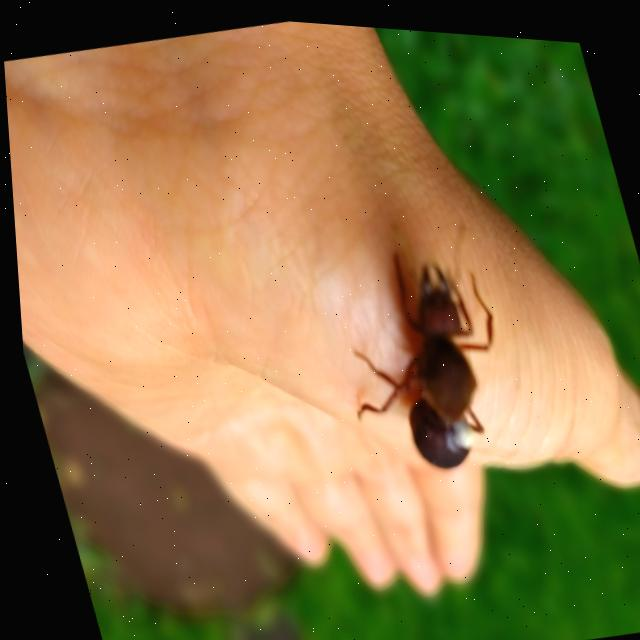Alive-Female-Dealate: (309, 225, 527, 483)
